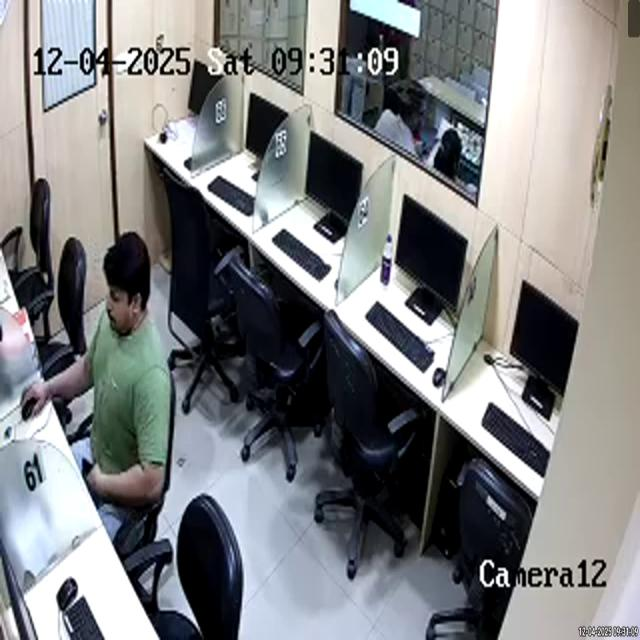phone: (82, 455, 95, 488)
